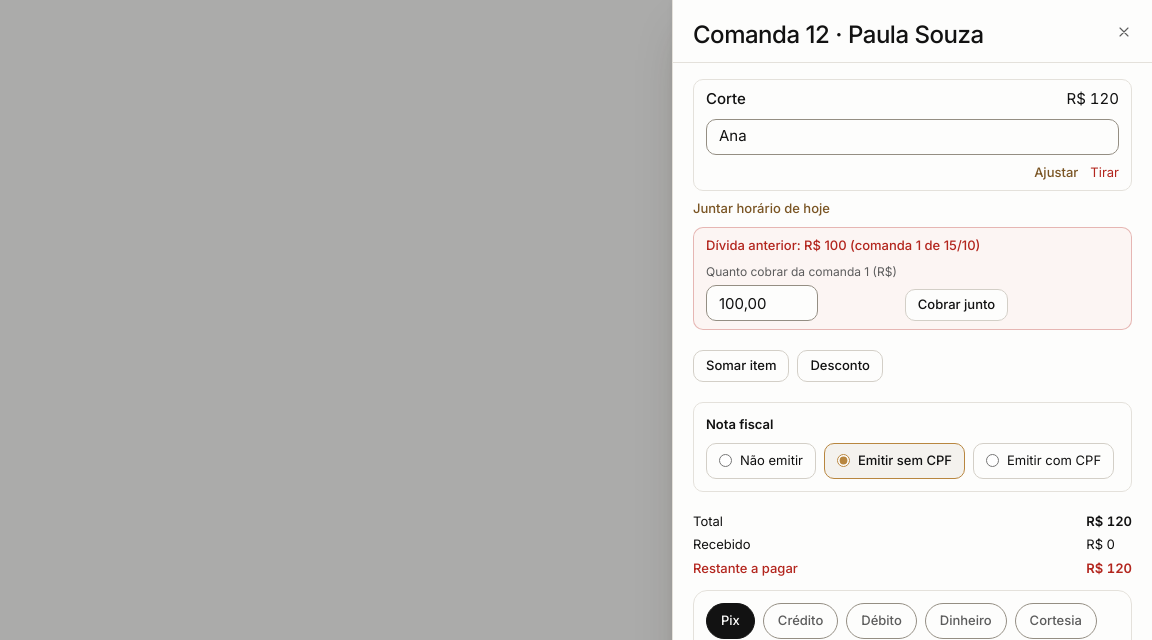
Test: dívida anterior: aparece com a comanda e o dia, e 'Cobrar junto' lança o item da dívida
Expected: the field labelled "Quanto cobrar da comanda 1 (R$)" holds "100,00", [706,285,818,321]
Click the button "Cobrar junto".
click(956, 305)  # box [905,289,1008,321]
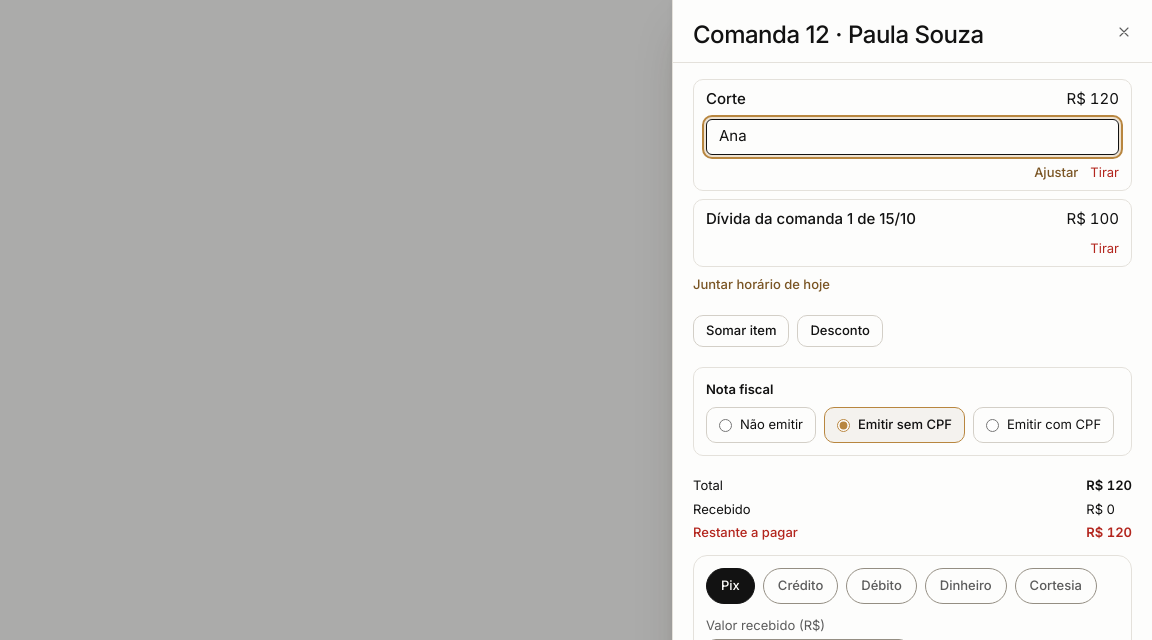
Now the text "Dívida da comanda 1 de 15/10" is shown, box [706,208,916,230]
Now the button with aria-label "Tirar Dívida da comanda 1 de 15/10" is shown, box [1090,238,1119,258]
Now the text "Dívida anterior" is gone
